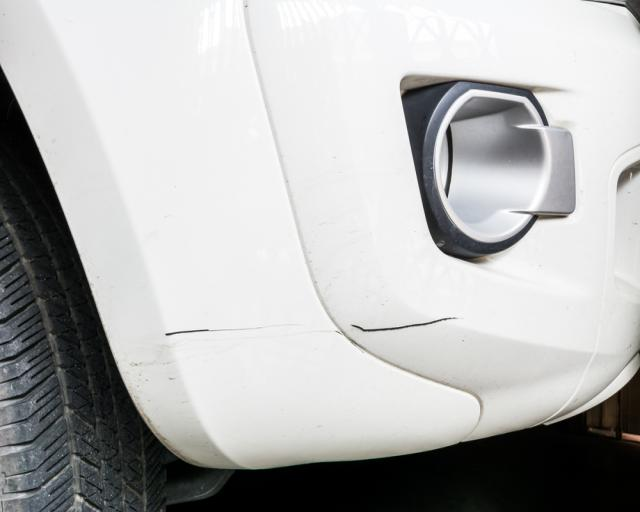scratch: (154, 322, 314, 342), (350, 312, 463, 339)
